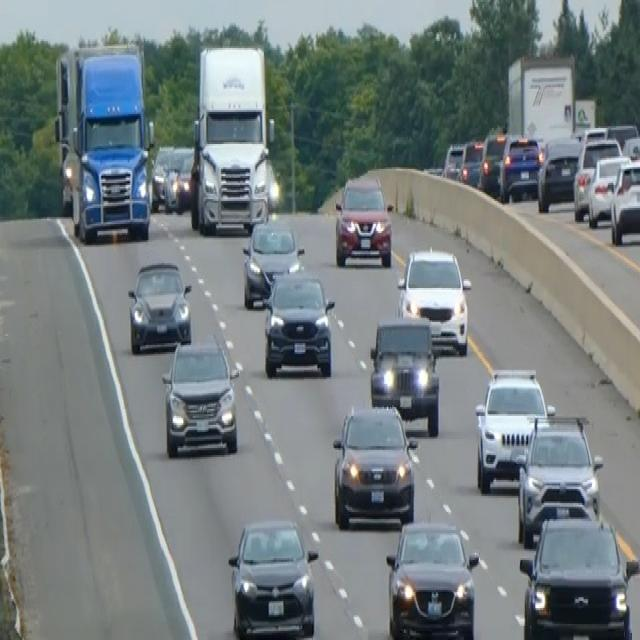car: (518, 514, 639, 638), (516, 407, 603, 546), (385, 518, 479, 638), (226, 516, 318, 638), (331, 402, 417, 528), (473, 364, 552, 492), (160, 338, 239, 458), (368, 313, 440, 435), (396, 244, 471, 356), (262, 268, 335, 377), (127, 260, 192, 354), (241, 217, 304, 307), (334, 172, 393, 268), (572, 135, 621, 221), (536, 134, 582, 212), (586, 153, 630, 227), (499, 133, 541, 203), (609, 157, 639, 246), (163, 144, 193, 212), (478, 130, 507, 196), (150, 142, 174, 210), (458, 138, 484, 186), (442, 140, 464, 182), (621, 133, 639, 162)
lorry: (53, 38, 155, 244), (189, 42, 275, 234)
